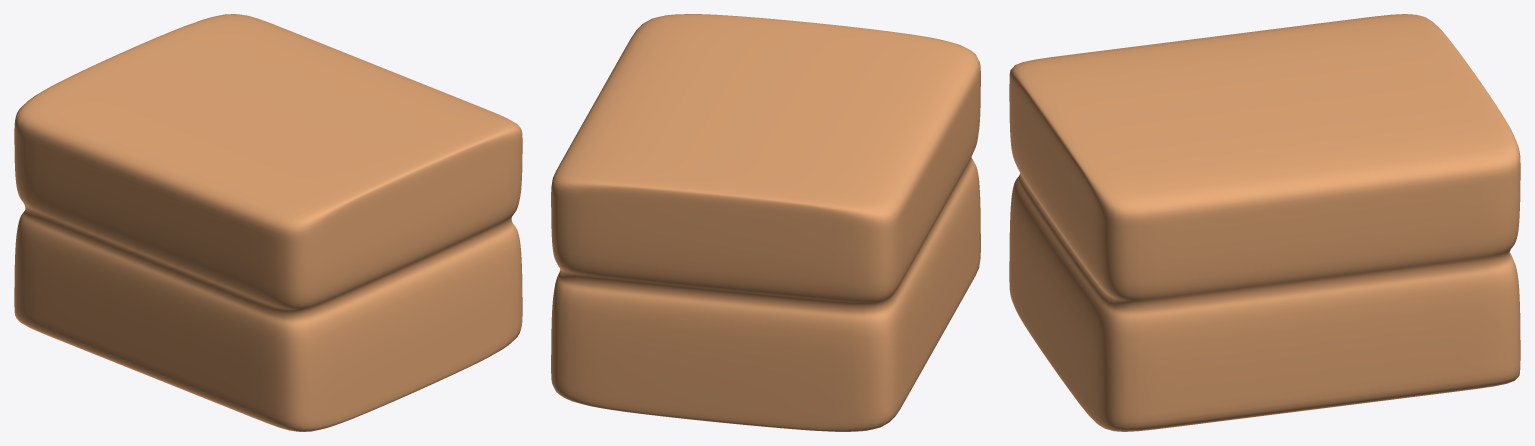
Rendered from bulto2.fbx.
3 renders of one model, left to right at view 1: azimuth 30°, elevation 25°; view 2: azimuth 150°, elevation 25°; view 3: azimuth 270°, elevation 25°, orthographic. The views are drawn at different scales.
Visible parts, largest first — view 1: Cube.022; view 2: Cube.022; view 3: Cube.022.
Part boxes in pixels (<box>): Cube.022: <box>14,14,522,431</box>; Cube.022: <box>551,14,980,431</box>; Cube.022: <box>1009,14,1520,431</box>.
Size of the model in its own units: 107 by 61.16 by 116.
